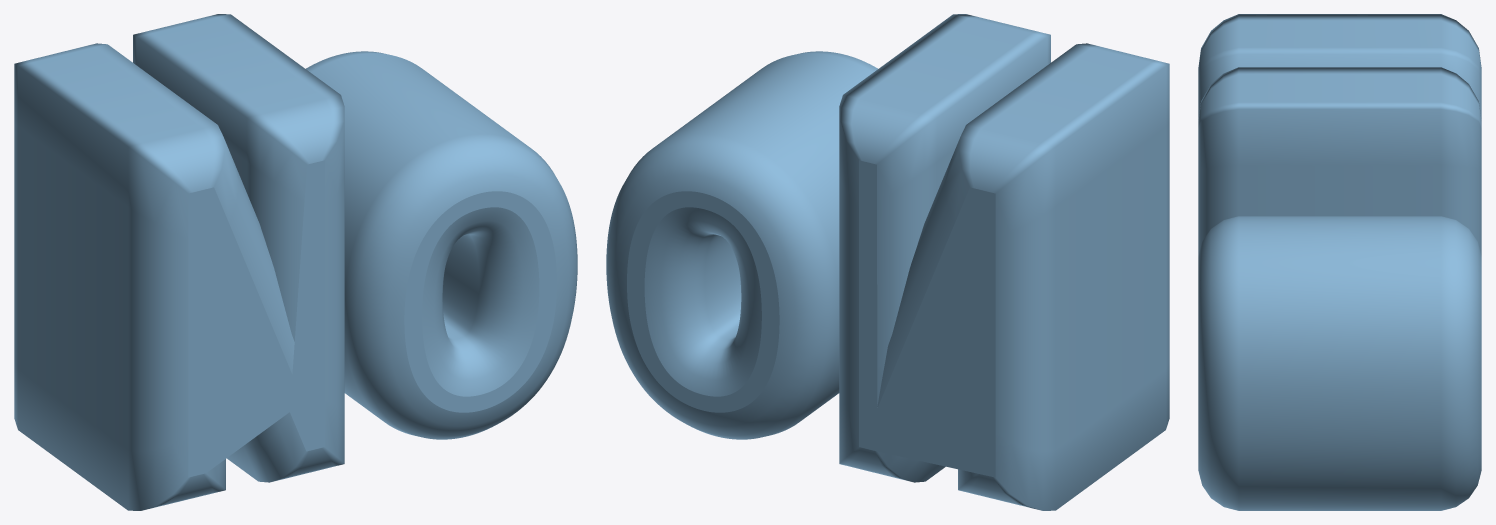
The picture shows the model from 3 angles, left to right: view 1: azimuth 30°, elevation 25°; view 2: azimuth 150°, elevation 25°; view 3: azimuth 270°, elevation 25°; orthographic projection. The views are drawn at different scales.
Parts seen in each view (by area): view 1: polySurface6; view 2: polySurface6; view 3: polySurface6.
Part boxes in pixels (box(x1,y1,x2,y2)): polySurface6: box(14, 14, 577, 510); polySurface6: box(606, 14, 1169, 510); polySurface6: box(1198, 14, 1481, 510).
Size of the model in its own units: 1.17 by 0.9221 by 0.7.
